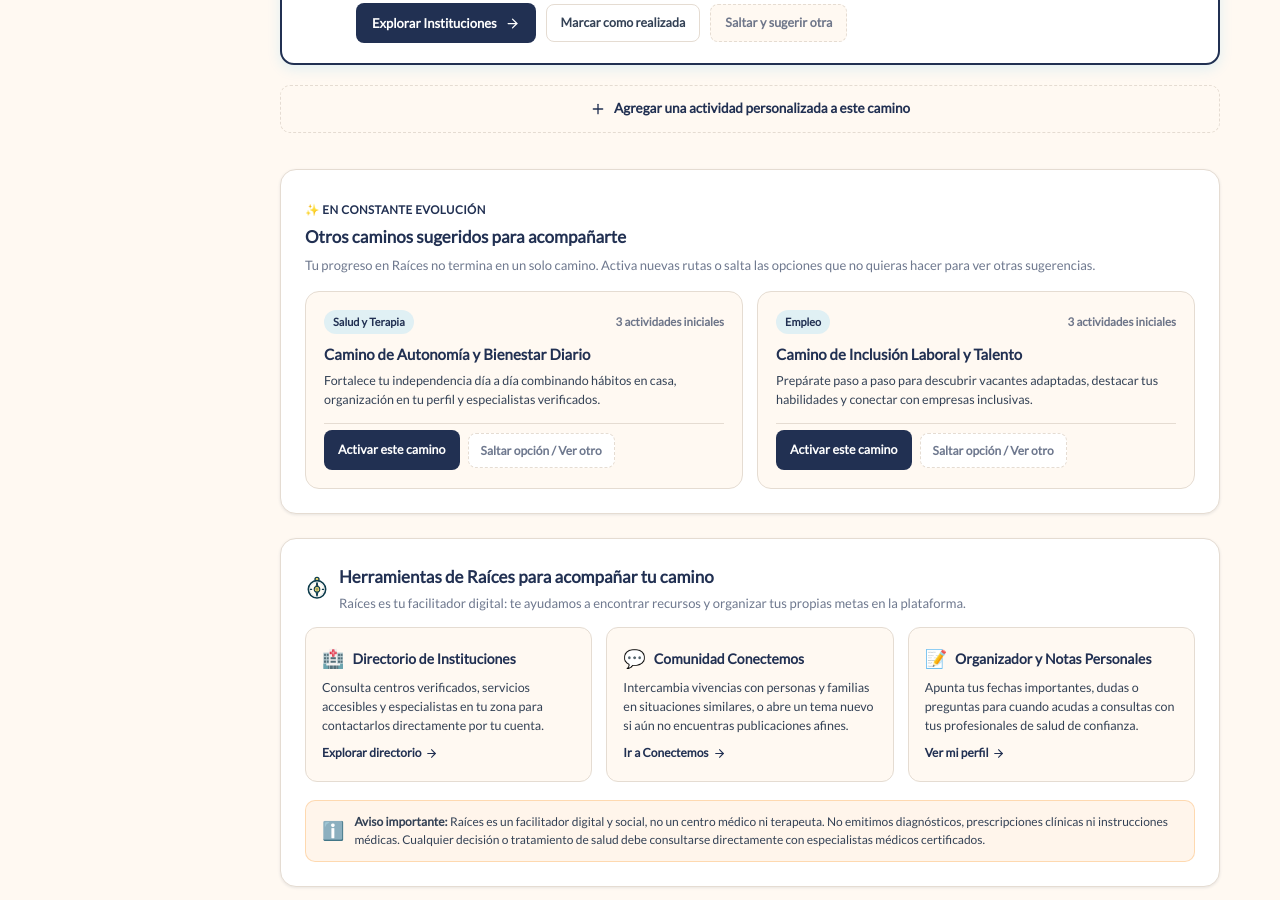
Test: RutasPage — motor de recomendación automatizado › muestra opciones de caminos sugeridos en constante cambio y permite saltar una opción para ver otra
This screenshot has width=1280, height=900.
(page scrolled)
Expected: the heading "Otros caminos sugeridos para acompañarte" is shown, [305, 226, 626, 247]
Expected: the heading "Camino de Autonomía y Bienestar Diario" is shown, [324, 345, 590, 363]
Click the button "Saltar opción / Ver otro" below "Camino de Autonomía y Bienestar Diario": (541, 450) [468, 433, 615, 468]
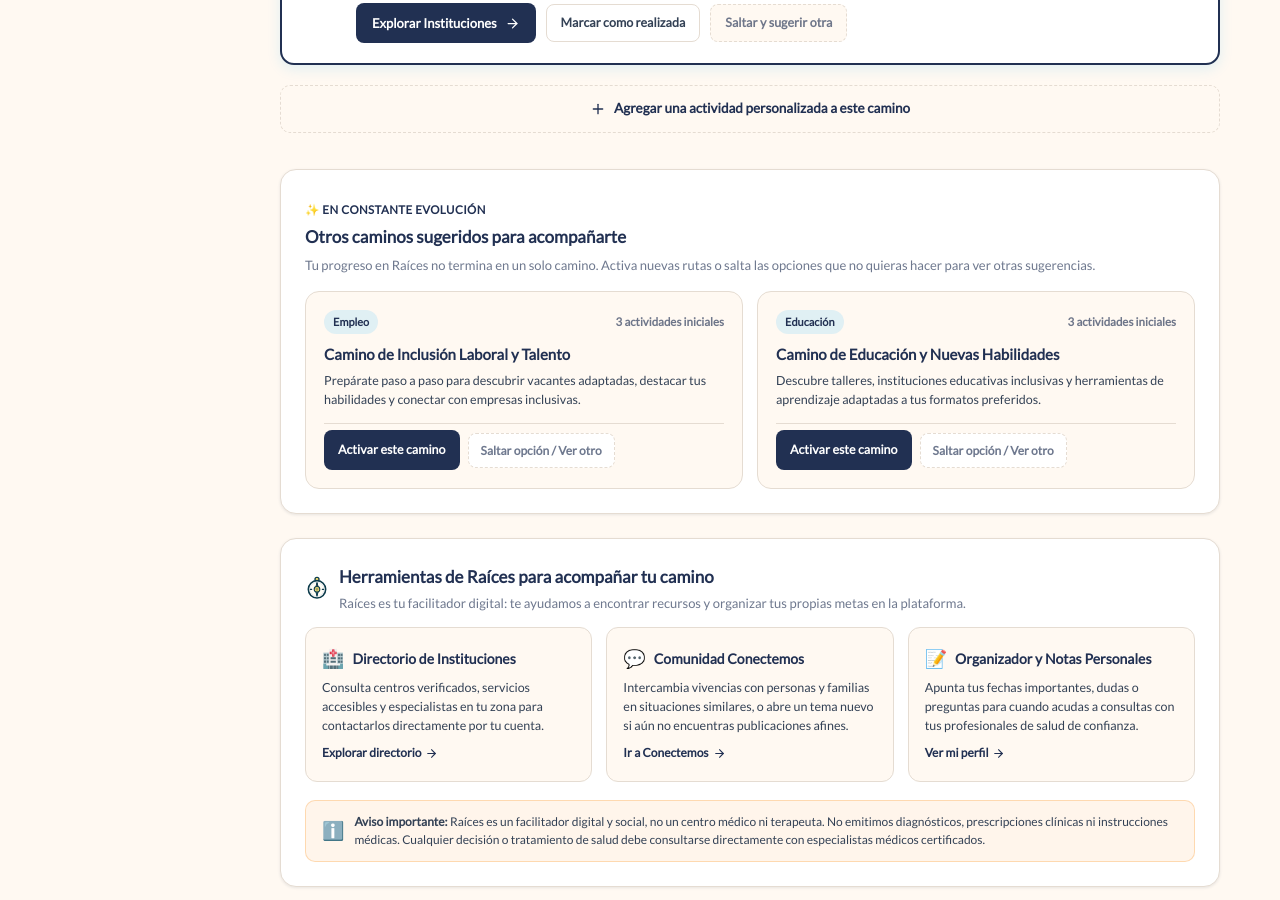
Now the heading "Camino de Autonomía y Bienestar Diario" is gone
Now the heading "Camino de Educación y Nuevas Habilidades" is shown, box [776, 345, 1059, 363]
